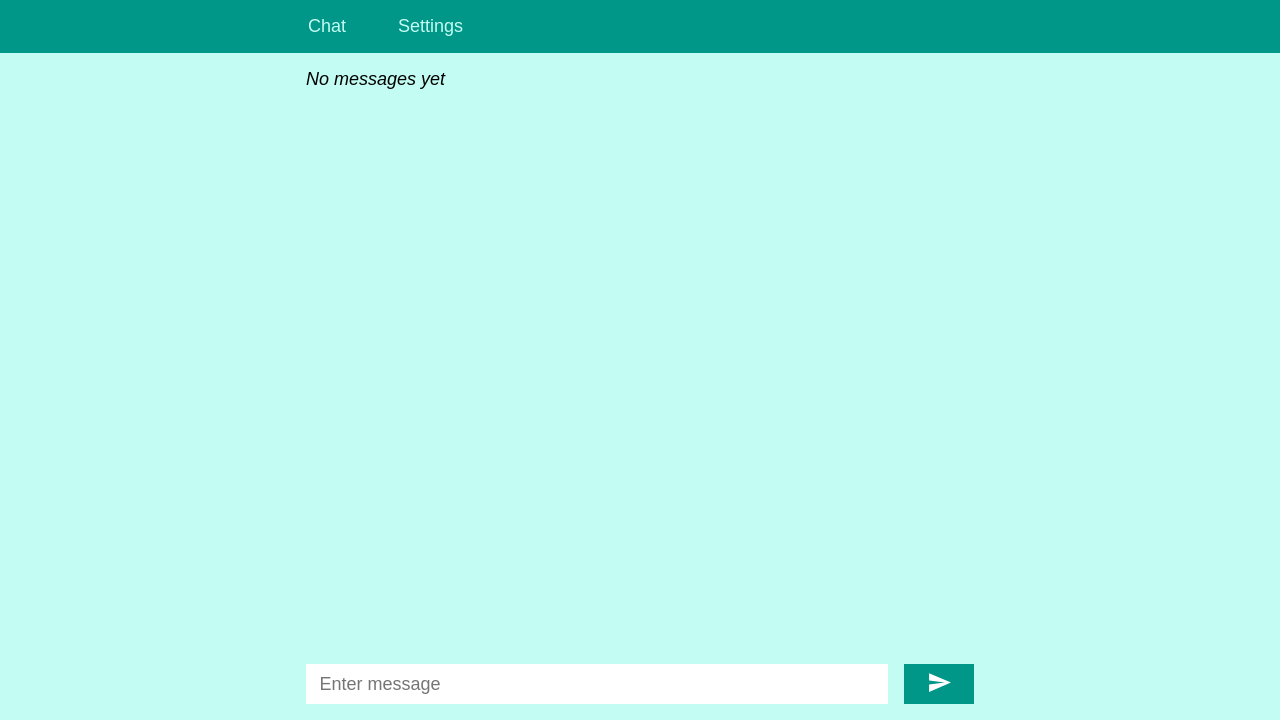
Test case: Chat View › Does write a text, its render on the messages list and the input is being emptied
Type "Hello world" into the field with placeholder "Enter message" at [597, 684], box [306,664,888,704]
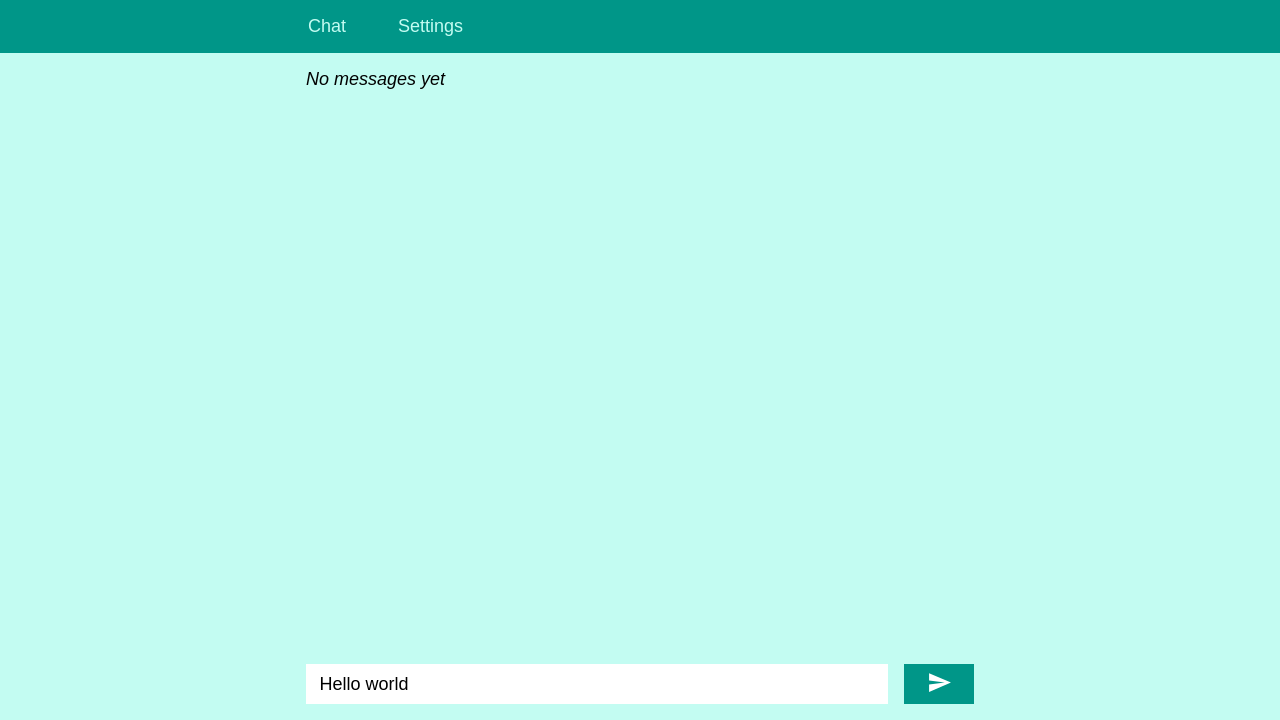
Click the link with test id "send-button" at [939, 684], box [904,664,974,704]
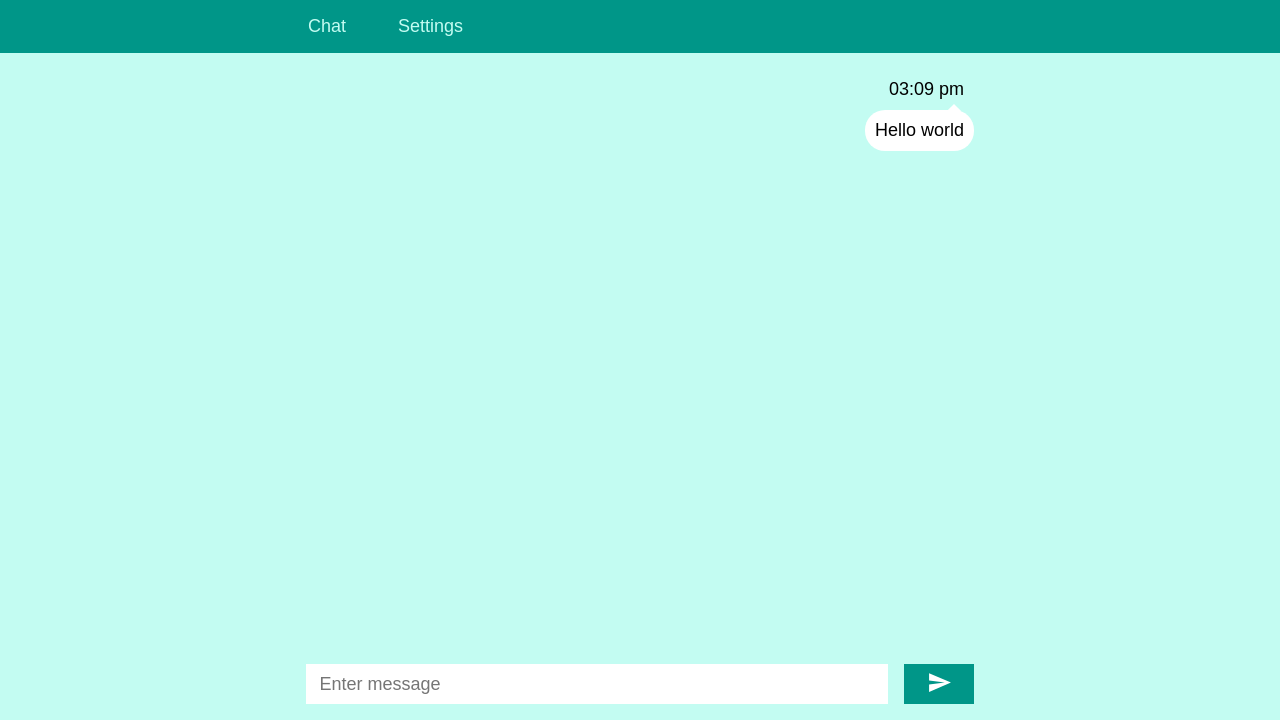
Expected: the text "Hello world" is shown, [865,110,974,151]
